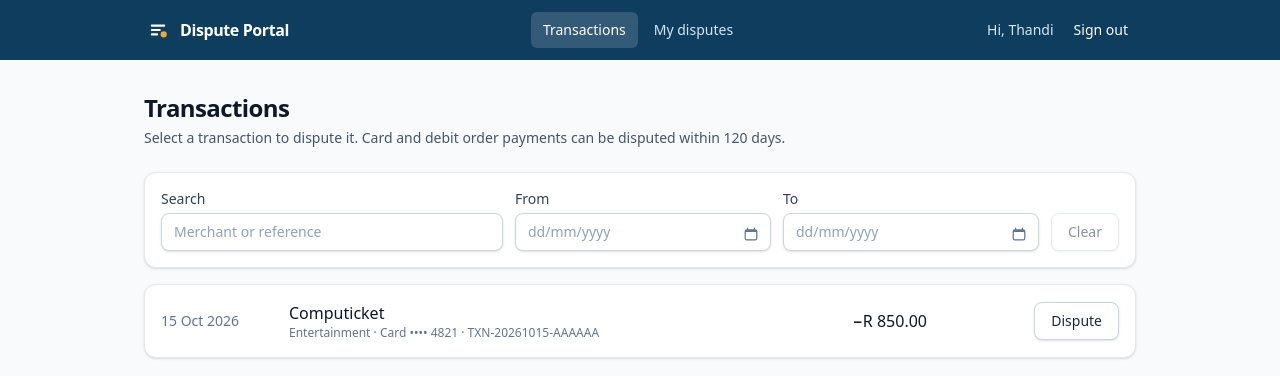
Scenario: TransactionsPage › date filters › sends a typed dd/mm/yyyy date to the API as yyyy-MM-dd
expect the list named "Transactions" is shown: met, box x1=161 y1=302 x2=1119 y2=341
In the field labelled "From": (643, 232) x1=515 y1=213 x2=771 y2=251, type "5/1/2026"
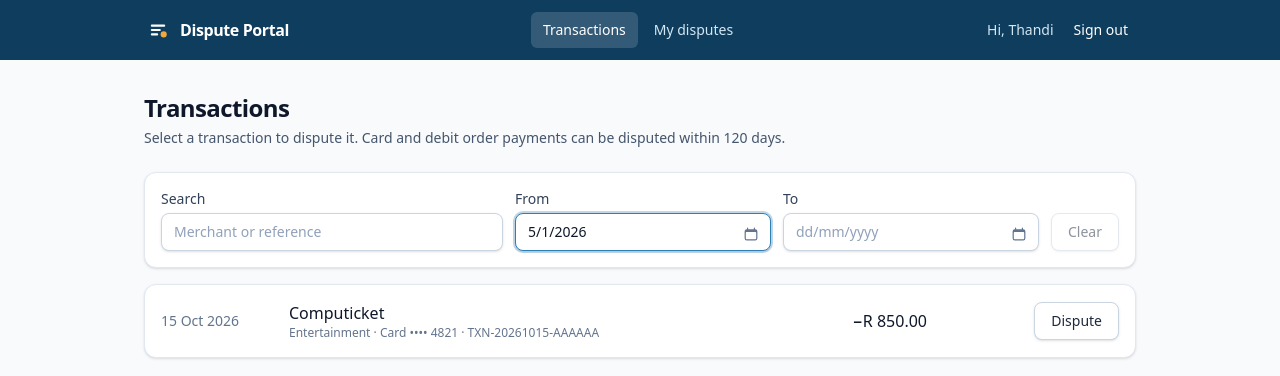
Press Tab
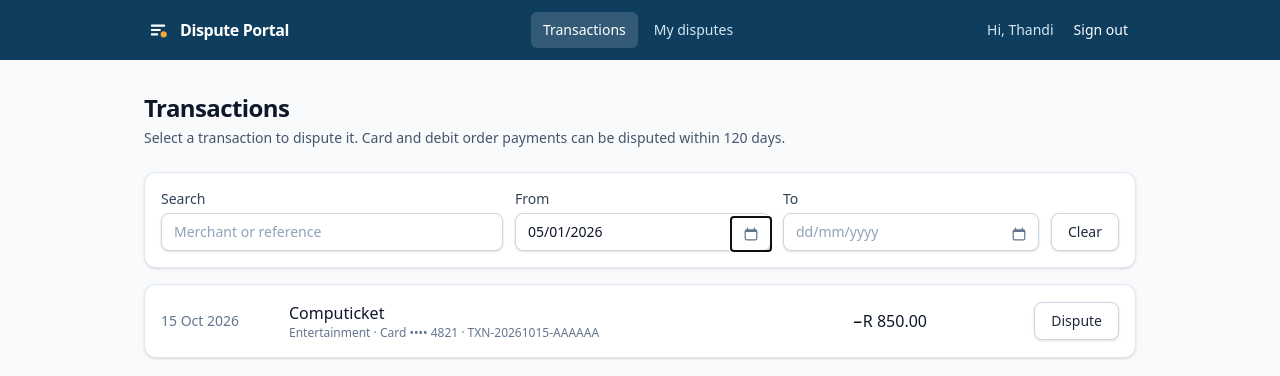
expect the field labelled "From" holds "05/01/2026": met, box x1=515 y1=213 x2=771 y2=251
